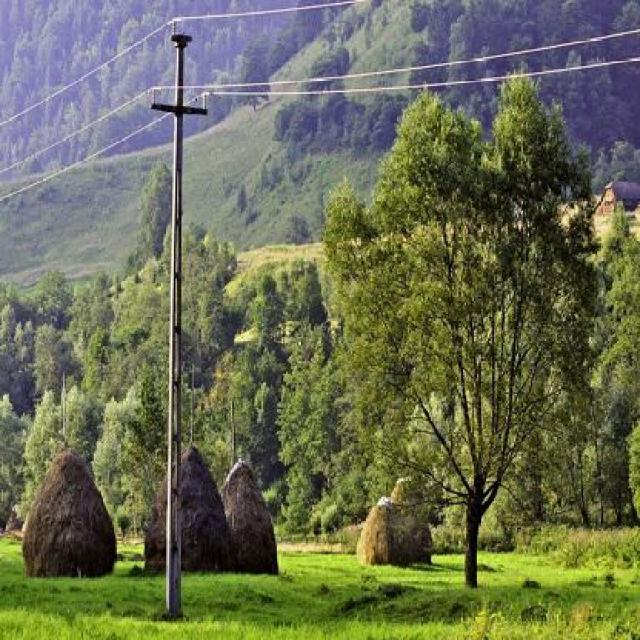pole: (129, 25, 226, 624)
